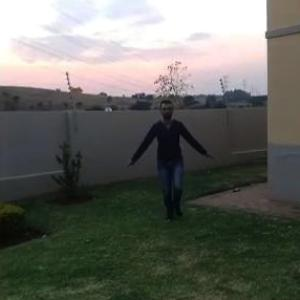land: (125, 97, 213, 222)
